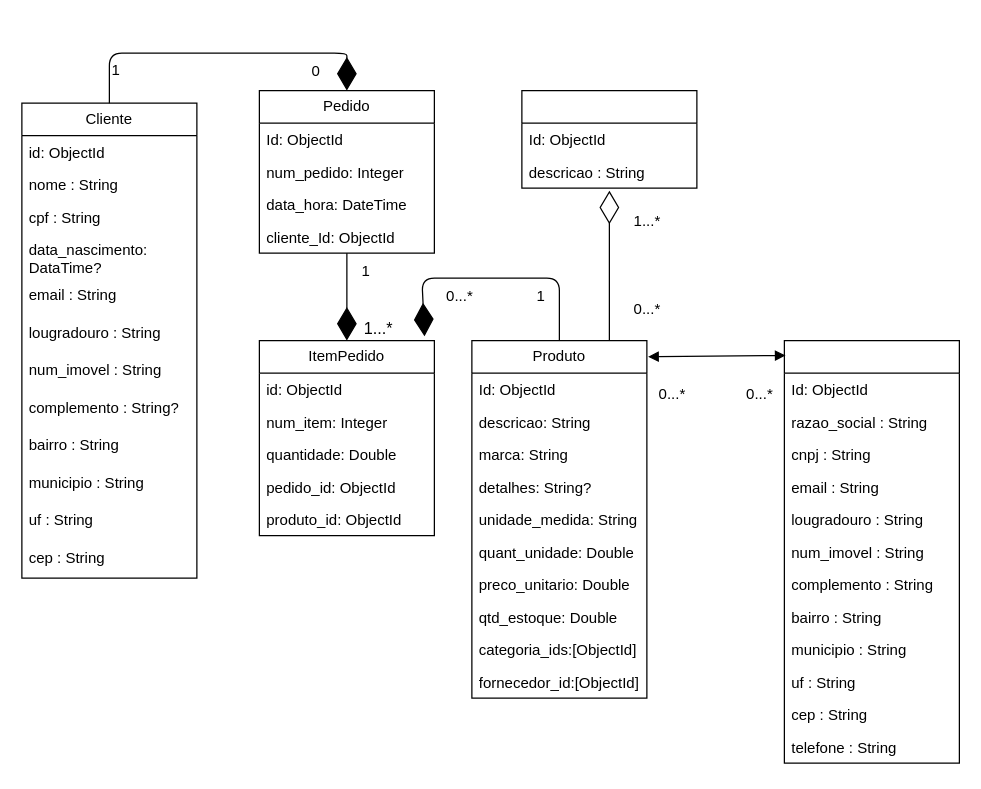
Some shapes in this 981 by 789 pixel diagram are drawn without their labels. Each missing label, with the box of its shape:
Categoria: (521, 89, 697, 188)
Fornecedor: (783, 339, 959, 763)
